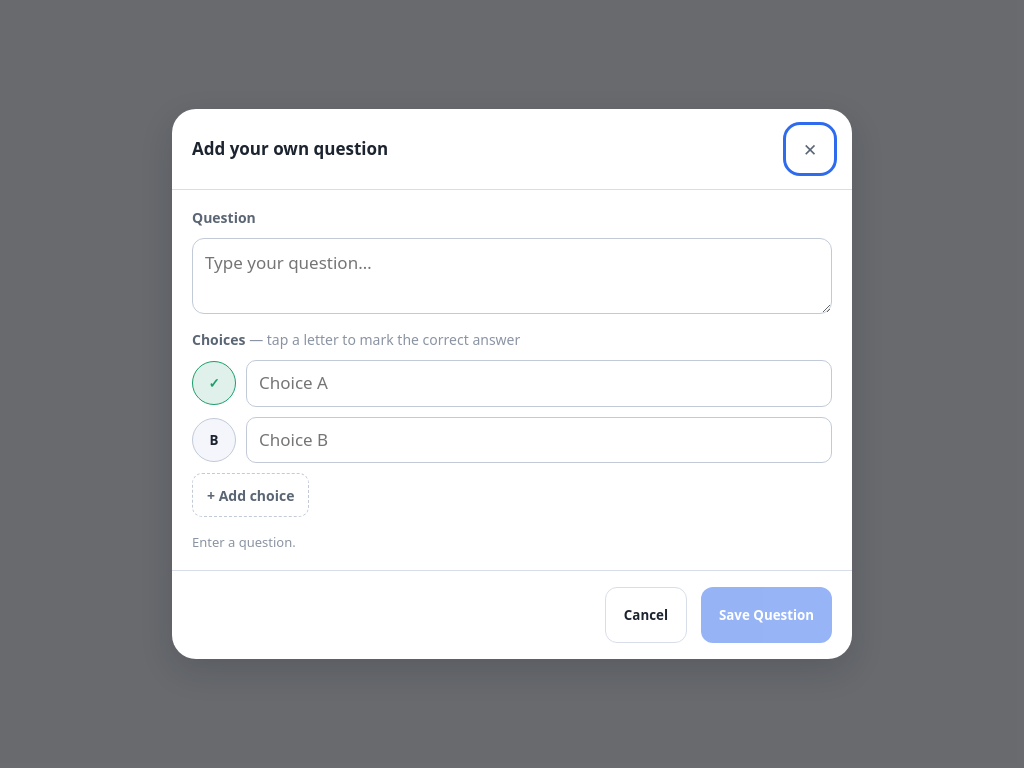
AddQuestionDialog › filling: Add choice grows up to 4, then hides
Click the button "+ Add choice" at (251, 495), box top-left (192, 473), bottom-right (310, 517)
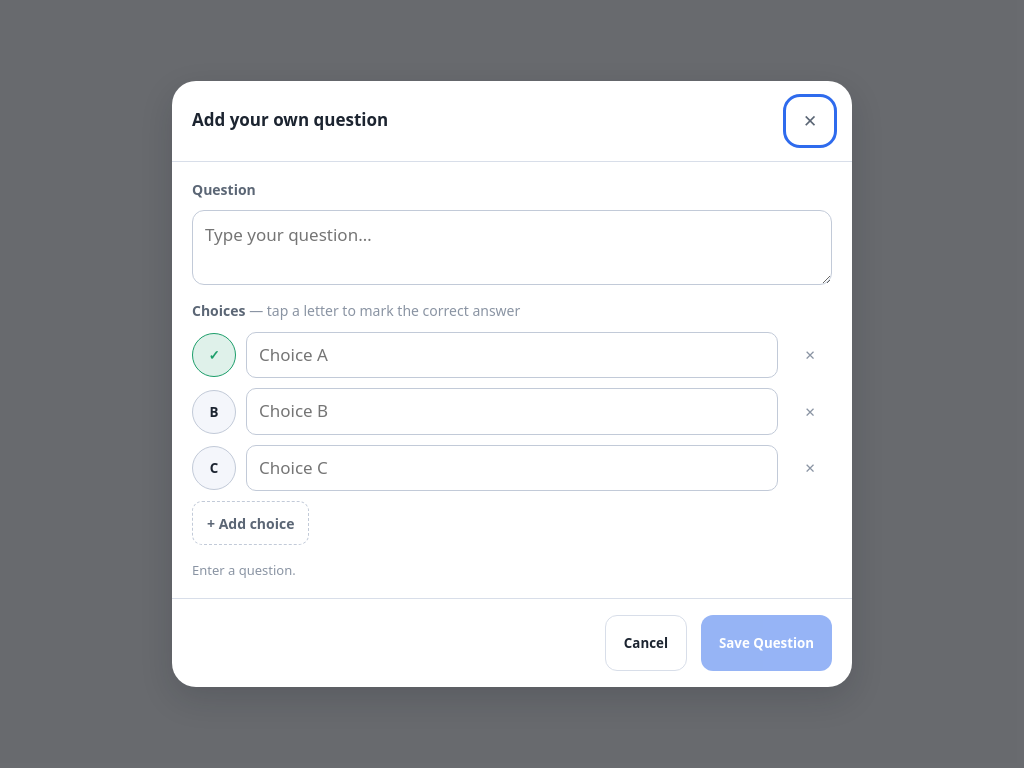
Click the button "+ Add choice" at (251, 524), box top-left (192, 502), bottom-right (310, 546)
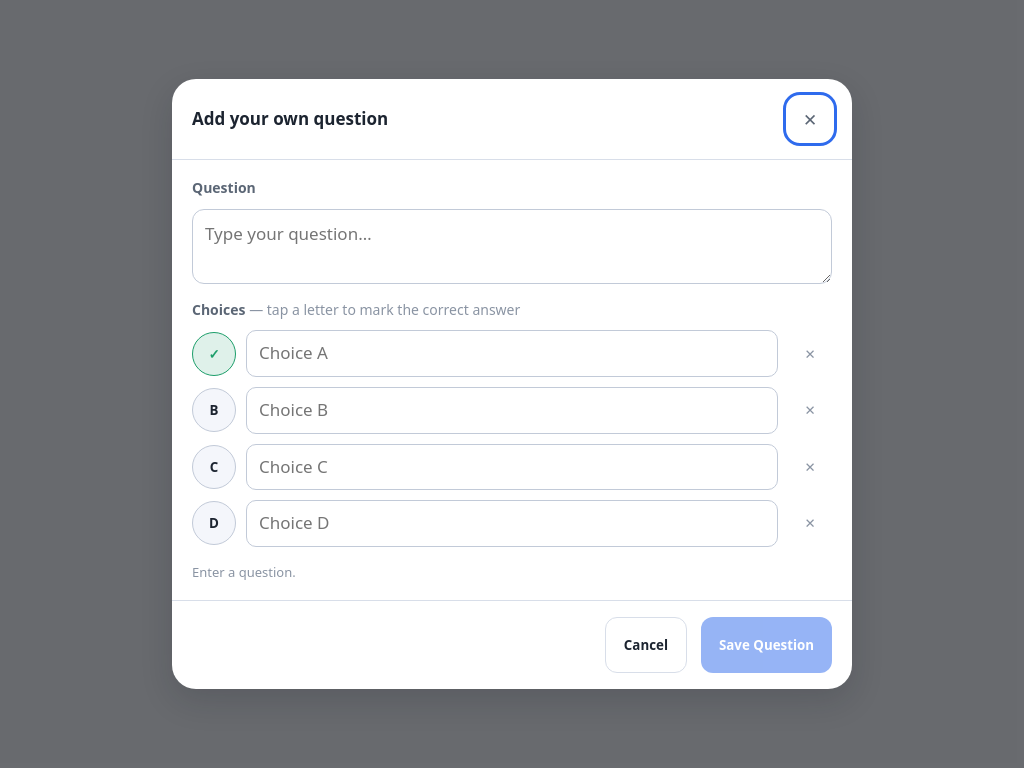
Result: the field labelled "Choice D" is shown at top-left (246, 500), bottom-right (778, 547)
Result: the button "+ Add choice" is gone
